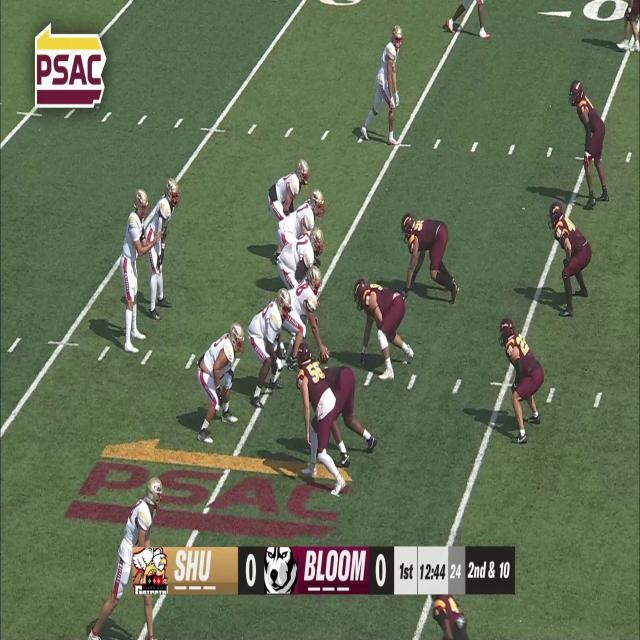football: (318, 348, 330, 363)
